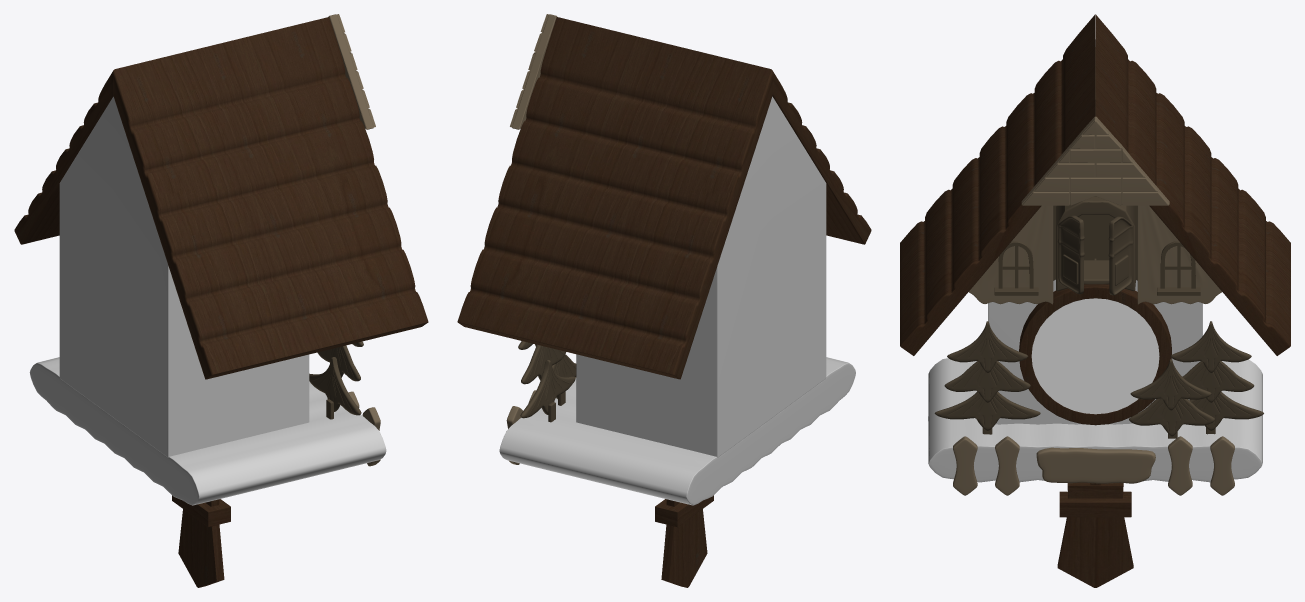
Rendered from clock.fbx.
3 views of the same model, side by side, from view 1: azimuth 30°, elevation 25°; view 2: azimuth 150°, elevation 25°; view 3: azimuth 270°, elevation 25° (orthographic).
Parts seen in each view (by area): view 1: pCube22, pCube19, pCube27, pCube34, pCube18, pCube26, tree3, tree2; view 2: pCube18, pCube19, pCube27, pCube34, pCube22, pCube26, tree3, tree2; view 3: pCube22, pCube18, pCube27, clock_cover, pCube26, pCube34, polySurface1, pCube19, pCube24, pCube25, pCube28, tree2 (×2) (+13 smaller).
Part boxes in pixels (left/top/right/bottom): pCube22: left=113, top=17, right=428, bottom=379; pCube19: left=59, top=96, right=309, bottom=457; pCube27: left=29, top=357, right=386, bottom=505; pCube34: left=172, top=495, right=230, bottom=587; pCube18: left=14, top=71, right=113, bottom=244; pCube26: left=328, top=14, right=375, bottom=129; tree3: left=309, top=357, right=361, bottom=415; tree2: left=317, top=345, right=360, bottom=381; pCube18: left=457, top=17, right=772, bottom=379; pCube19: left=576, top=96, right=826, bottom=457; pCube27: left=499, top=357, right=855, bottom=505; pCube34: left=655, top=495, right=713, bottom=587; pCube22: left=772, top=71, right=871, bottom=244; pCube26: left=510, top=14, right=557, bottom=129; tree3: left=520, top=360, right=575, bottom=418; tree2: left=521, top=344, right=565, bottom=384; pCube22: left=900, top=14, right=1095, bottom=355; pCube18: left=1095, top=14, right=1290, bottom=355; pCube27: left=928, top=358, right=1262, bottom=482; clock_cover: left=1031, top=298, right=1159, bottom=414; pCube26: left=1021, top=116, right=1169, bottom=205; pCube34: left=1057, top=482, right=1133, bottom=587; polySurface1: left=1019, top=284, right=1171, bottom=425; pCube19: left=988, top=39, right=1202, bottom=424; pCube24: left=1137, top=205, right=1221, bottom=304; pCube25: left=969, top=205, right=1053, bottom=304; pCube28: left=1036, top=447, right=1155, bottom=483; tree2 (×2): left=944, top=361, right=1254, bottom=402.
Size of the model in its own units: 0.3098 by 0.7059 by 0.4707.
